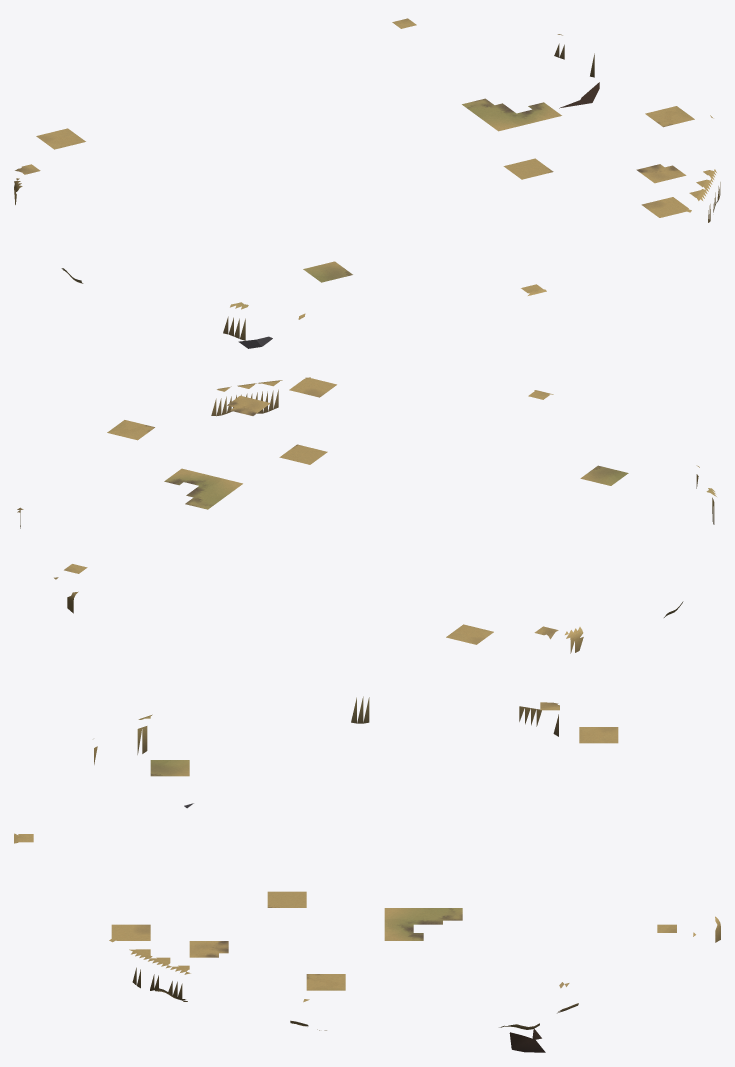
3 renders of one model, top to bottom at view 1: azimuth 30°, elevation 25°; view 2: azimuth 150°, elevation 25°; view 3: azimuth 270°, elevation 25°, orthographic. The views are drawn at different scales.
Visible parts, largest first — view 1: Grass_2_0_0, Grass_2_-4_0_110, Grass_1_-2_0_110, Grass_-3_-3_0_100, Grass_-4_2_0_110, Grass_4_-1_0_000, Grass_3_-3_0_010; view 2: Grass_2_0_0, Grass_-4_2_0_110, Grass_1_-2_0_110, Grass_2_-4_0_110, Grass_-3_-3_0_100, Grass_4_-1_0_000, Grass_3_-3_0_010; view 3: Grass_2_0_0, Grass_2_-4_0_110, Grass_4_-1_0_000, Grass_-3_-3_0_100, Grass_-4_2_0_110, Grass_1_-2_0_110, Grass_3_-3_0_010.
Boxes of the visible parts, bbox=[...] form: Grass_2_0_0: bbox=[462, 98, 561, 131]; Grass_2_-4_0_110: bbox=[641, 197, 691, 217]; Grass_1_-2_0_110: bbox=[503, 158, 553, 179]; Grass_-3_-3_0_100: bbox=[303, 261, 352, 282]; Grass_-4_2_0_110: bbox=[36, 128, 85, 149]; Grass_4_-1_0_000: bbox=[645, 106, 694, 127]; Grass_3_-3_0_010: bbox=[636, 164, 686, 183]; Grass_2_0_0: bbox=[164, 468, 242, 509]; Grass_-4_2_0_110: bbox=[446, 624, 493, 644]; Grass_1_-2_0_110: bbox=[279, 444, 327, 464]; Grass_2_-4_0_110: bbox=[289, 377, 336, 397]; Grass_-3_-3_0_100: bbox=[580, 465, 628, 485]; Grass_4_-1_0_000: bbox=[107, 420, 154, 440]; Grass_3_-3_0_010: bbox=[227, 395, 270, 415]; Grass_2_0_0: bbox=[384, 908, 462, 940]; Grass_2_-4_0_110: bbox=[109, 924, 150, 942]; Grass_4_-1_0_000: bbox=[306, 974, 345, 990]; Grass_-3_-3_0_100: bbox=[150, 760, 189, 776]; Grass_-4_2_0_110: bbox=[579, 727, 618, 743]; Grass_1_-2_0_110: bbox=[267, 891, 306, 907]; Grass_3_-3_0_010: bbox=[189, 941, 228, 957].
Bounding box in the file's own units: 621 × 65.83 × 580.
Materials: 26 (26 with a texture image).
